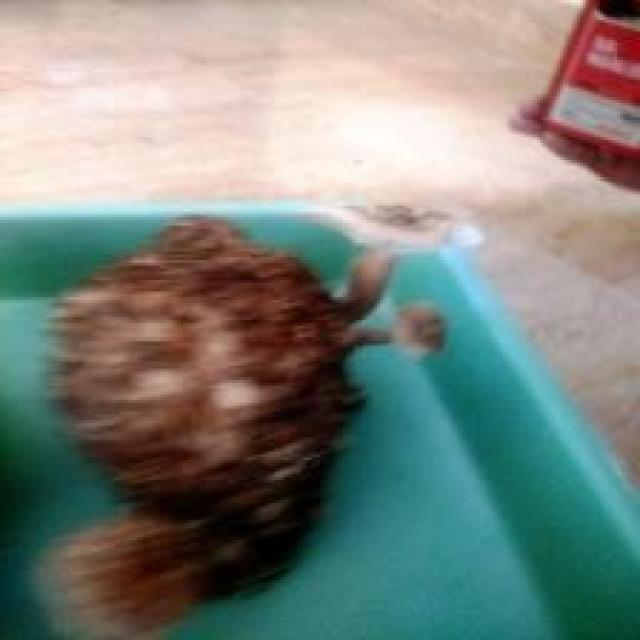chanterelle: (31, 212, 446, 637)
